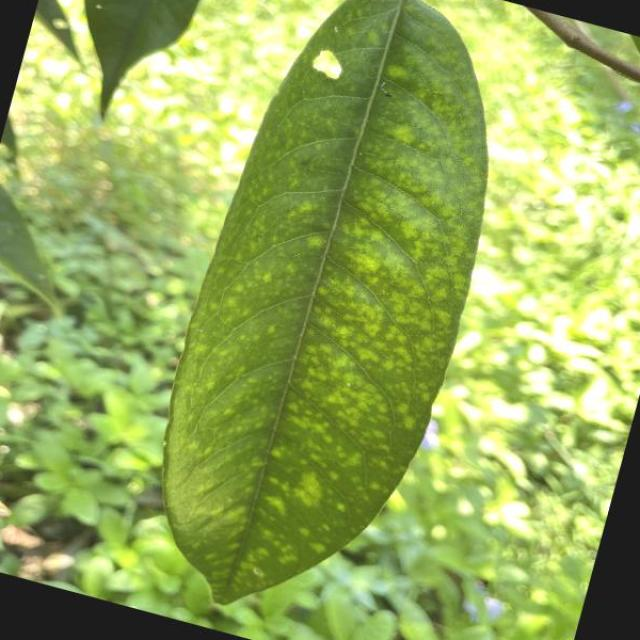Leaf Spot: (112, 0, 556, 640)
